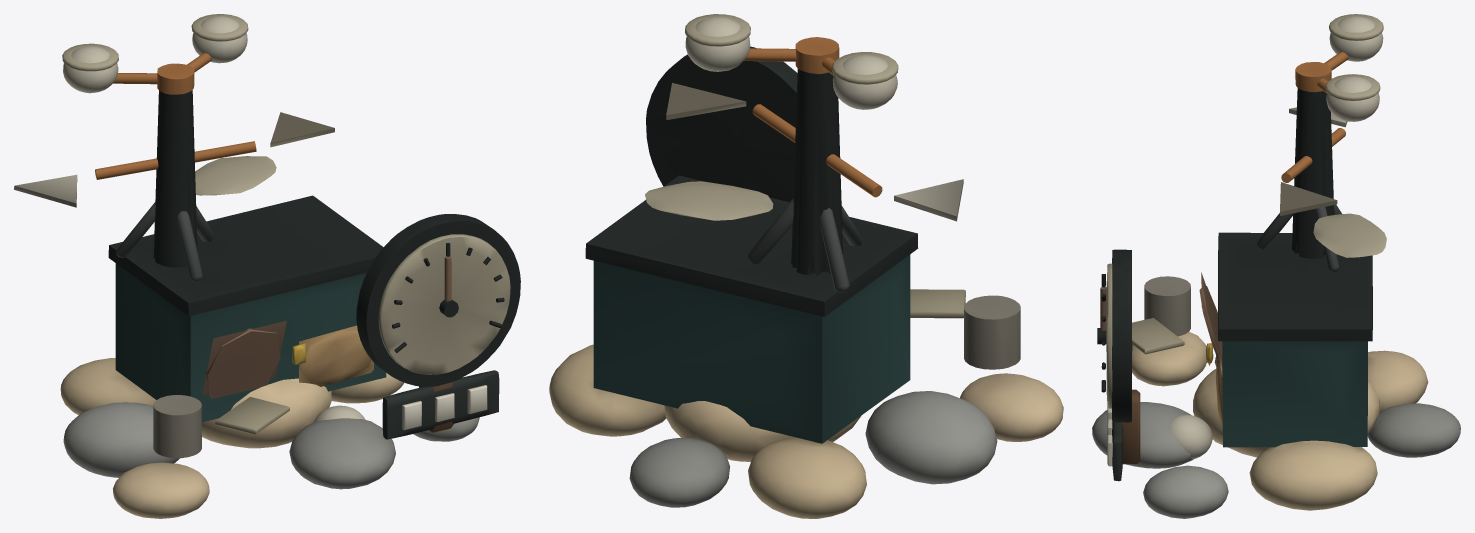
File: storm_station_b_lod1.glb
3 renders of one model, left to right at view 1: azimuth 30°, elevation 25°; view 2: azimuth 150°, elevation 25°; view 3: azimuth 270°, elevation 25°, orthographic. The views are drawn at different scales.
Parts seen in each view (by area): view 1: Surface.001; view 2: Surface.001; view 3: Surface.001.
Boxes of the visible parts, <box> form: Surface.001: <box>14,14,520,518</box>; Surface.001: <box>549,14,1063,518</box>; Surface.001: <box>1092,14,1460,518</box>.
Bounding box in the file's own units: 4.66 × 4.52 × 4.04.
